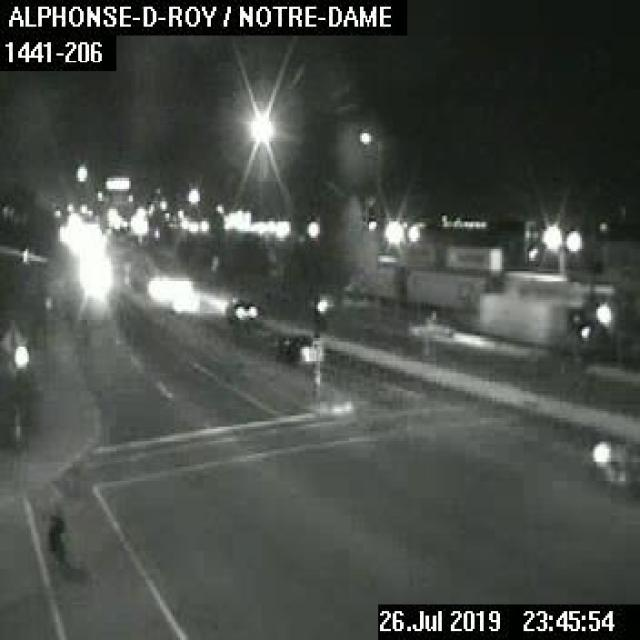pedestrian: (42, 500, 85, 582)
vehicle: (587, 438, 638, 489), (142, 274, 198, 314), (273, 333, 316, 371), (218, 296, 264, 331), (70, 266, 113, 300)
